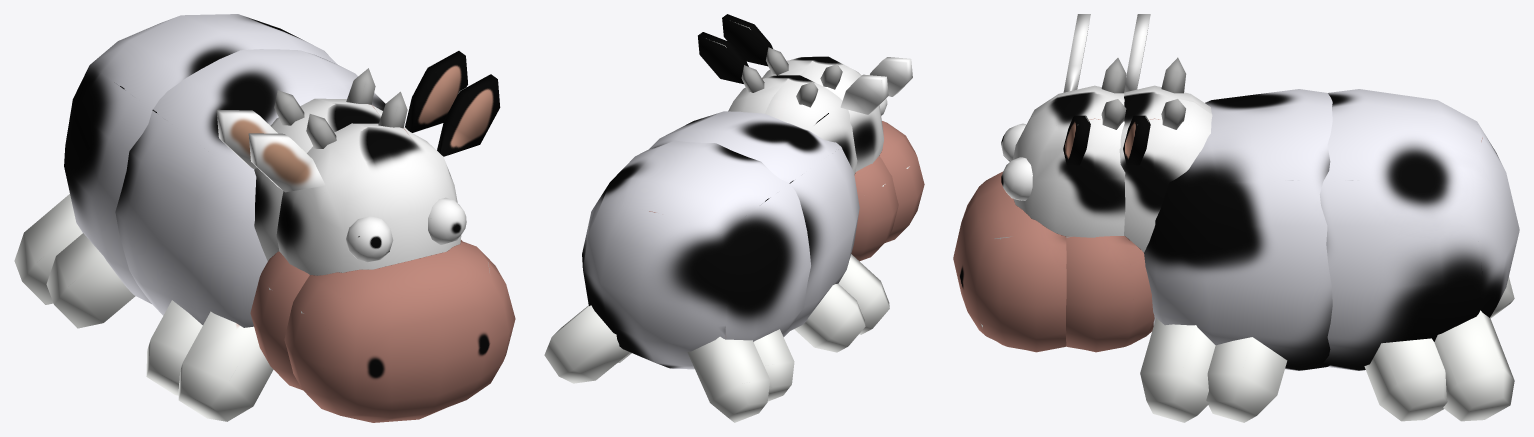
Rendered from Cow.fbx.
3 renders of one model, left to right at view 1: azimuth 30°, elevation 25°; view 2: azimuth 150°, elevation 25°; view 3: azimuth 270°, elevation 25°, orthographic. The views are drawn at different scales.
Visible parts, largest first — view 1: Cow, Cow.008, Cow.004, Cow.001, Cow.010, Cow.009, Cow.007, Cow.006, Cow.005; view 2: Cow.008, Cow, Cow.010, Cow.004, Cow.011, Cow.001, Cow.009, Cow.007, Cow.006, Cow.005; view 3: Cow, Cow.008, Cow.001, Cow.004, Cow.011, Cow.012, Cow.005, Cow.006, Cow.007.
Part boxes in pixels (bbox=[...]): Cow: bbox=[46, 49, 515, 422]; Cow.008: bbox=[64, 14, 337, 303]; Cow.004: bbox=[254, 98, 409, 261]; Cow.001: bbox=[250, 240, 461, 390]; Cow.010: bbox=[14, 194, 82, 304]; Cow.009: bbox=[146, 300, 202, 395]; Cow.007: bbox=[405, 51, 467, 132]; Cow.006: bbox=[216, 109, 277, 168]; Cow.005: bbox=[274, 68, 375, 125]; Cow.008: bbox=[582, 140, 810, 369]; Cow: bbox=[618, 14, 924, 401]; Cow.010: bbox=[687, 336, 769, 422]; Cow.004: bbox=[728, 75, 857, 174]; Cow.011: bbox=[544, 305, 629, 383]; Cow.001: bbox=[851, 155, 898, 261]; Cow.009: bbox=[794, 283, 865, 352]; Cow.007: bbox=[698, 32, 748, 83]; Cow.006: bbox=[840, 74, 888, 114]; Cow.005: bbox=[741, 65, 818, 107]; Cow: bbox=[953, 14, 1447, 422]; Cow.008: bbox=[1319, 89, 1519, 370]; Cow.001: bbox=[1065, 236, 1154, 352]; Cow.004: bbox=[1119, 85, 1212, 252]; Cow.011: bbox=[1434, 310, 1514, 421]; Cow.012: bbox=[1206, 337, 1287, 422]; Cow.005: bbox=[1161, 57, 1186, 129]; Cow.006: bbox=[1124, 14, 1150, 92]; Cow.007: bbox=[1123, 115, 1150, 165].
Size of the model in its own units: 69.6 by 74.65 by 127.
Materials: 1 (1 with a texture image).
